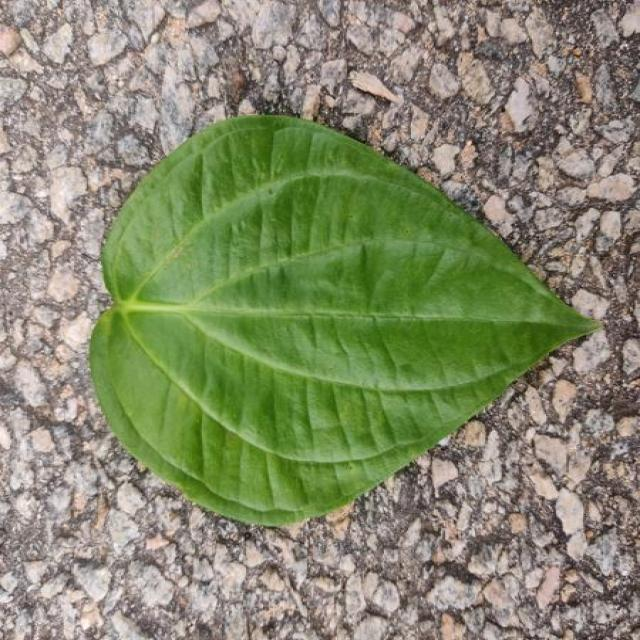betel: (90, 116, 598, 526)
